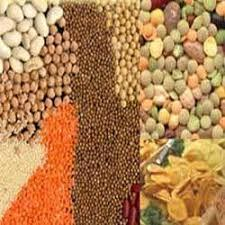Organic: (1, 0, 225, 225)
